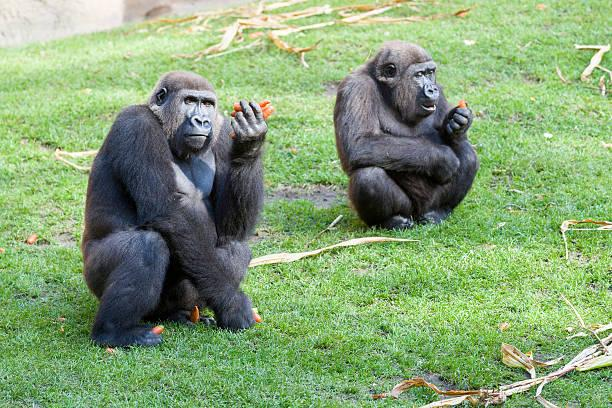gorille_Autres: (82, 59, 267, 345), (326, 22, 481, 249)
